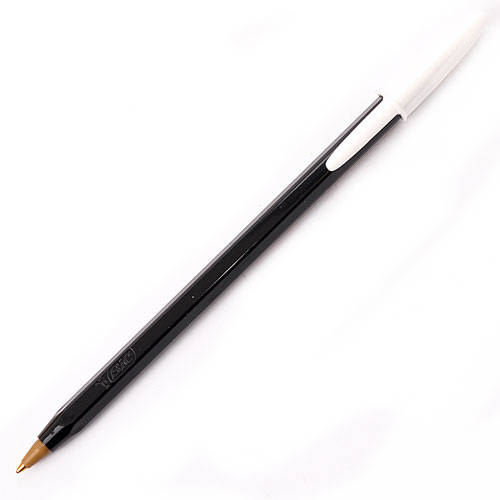Boligrafo: (17, 11, 490, 474)
